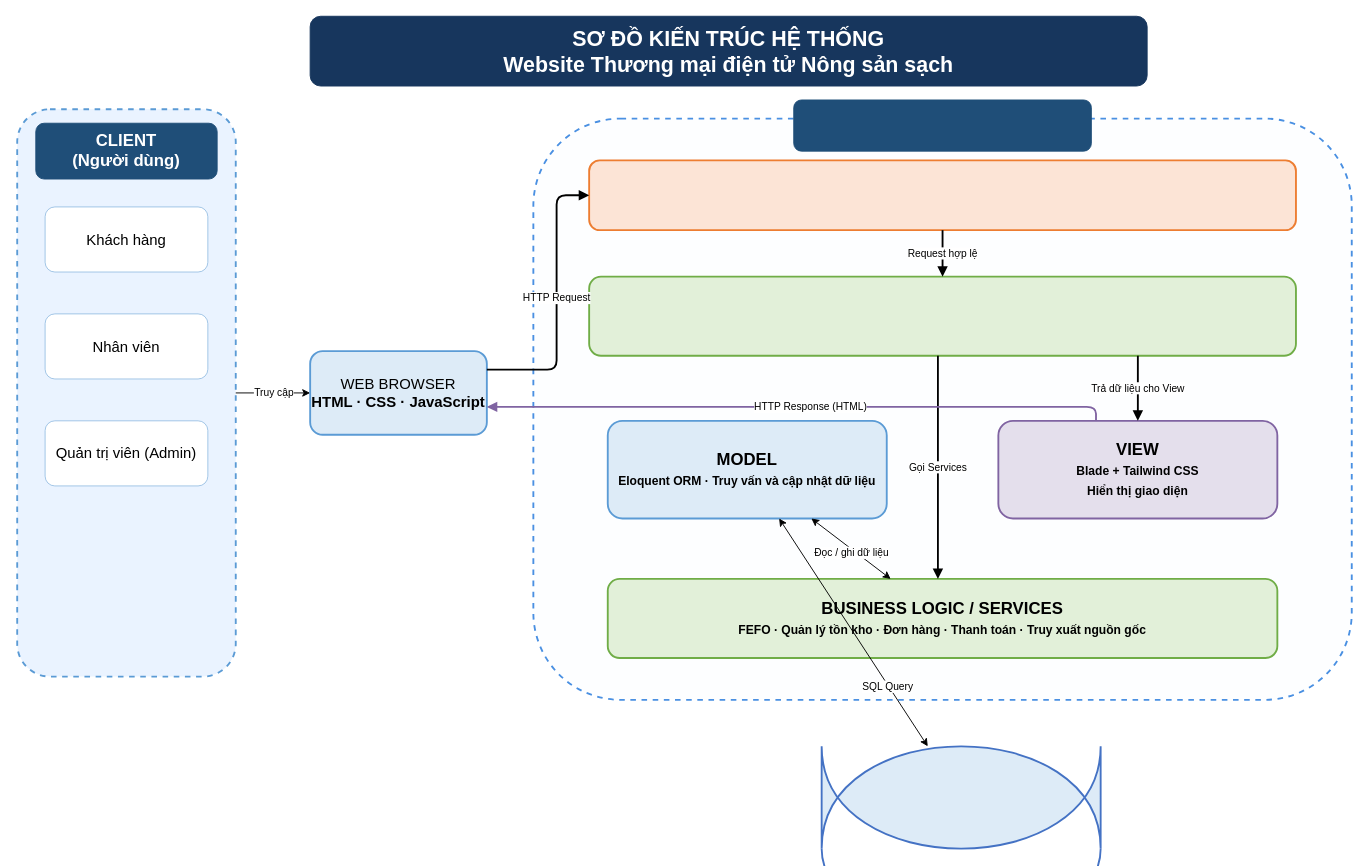
Some shapes in this 1368 by 866 pixel diagram are drawn without their labels. The shapes that lost their labels are listed below. From the top down, each one's box as (x1, y1, x2, y2) in pixels, then its label:
(793, 99, 1091, 151): SERVER – LARAVEL
(588, 159, 1296, 231): ROUTES + MIDDLEWARE Điều hướng URL · Xác thực · Phân quyền
(588, 275, 1296, 356): CONTROLLER Tiếp nhận Request · Điều phối xử lý nghiệp vụ
(820, 745, 1101, 849): DATABASE MySQL Lưu trữ dữ liệu hệ thống
